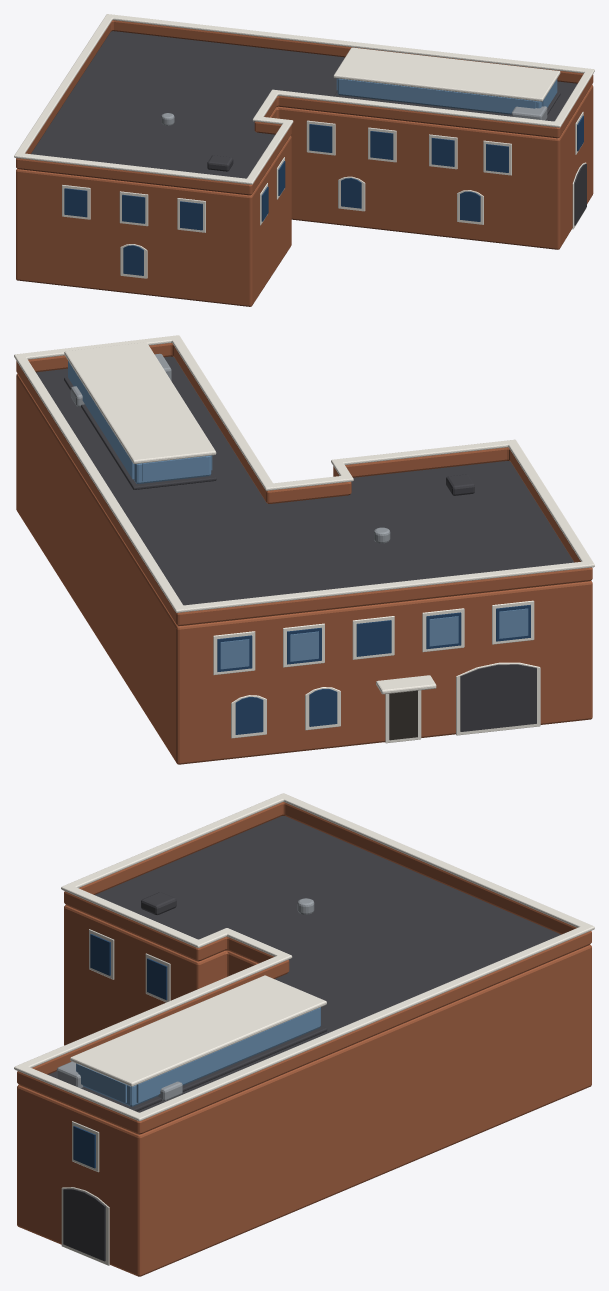
The model's file is 135-south-park.glb.
3 renders of one model, top to bottom at view 1: azimuth 30°, elevation 25°; view 2: azimuth 150°, elevation 25°; view 3: azimuth 270°, elevation 25°, orthographic. The views are drawn at different scales.
Visible parts, largest first — view 1: body, parapet, coping, monitor_lid, monitor_glow_ne, sw_up0_fill, sw_up1_fill, wg_up1_fill, wg_up0_fill, wg_up2_fill, sw_up2_fill, re_door_fill (+8 smaller); view 2: body, parapet, coping, monitor_lid, fr_freight_fill, fr_door_fill, monitor_glow_nw, fr_up2_fill, monitor_glow_sw, monitor_kerb, fr_gw0_fill, fr_gw1_fill (+10 smaller); view 3: body, parapet, coping, monitor_lid, monitor_glow_sw, re_door_fill, monitor_kerb, monitor_glow_se, re_up0_fill, bw_up1_fill, bw_up0_fill, monitor_body (+1 smaller).
Part boxes in pixels (x1,y1,x2,y2): body: [16, 31, 593, 306]; parapet: [16, 20, 593, 195]; coping: [14, 14, 594, 184]; monitor_lid: [333, 47, 560, 101]; monitor_glow_ne: [341, 79, 535, 113]; sw_up0_fill: [64, 188, 87, 217]; sw_up1_fill: [122, 194, 145, 223]; wg_up1_fill: [370, 131, 393, 159]; wg_up0_fill: [309, 124, 332, 152]; wg_up2_fill: [431, 138, 454, 166]; sw_up2_fill: [180, 201, 202, 230]; re_door_fill: [574, 164, 586, 225]; body: [16, 356, 592, 764]; parapet: [16, 343, 592, 625]; coping: [14, 335, 594, 612]; monitor_lid: [64, 342, 216, 463]; fr_freight_fill: [460, 664, 536, 731]; fr_door_fill: [389, 690, 417, 740]; monitor_glow_nw: [142, 456, 206, 481]; fr_up2_fill: [356, 620, 391, 656]; monitor_glow_sw: [68, 361, 134, 479]; monitor_kerb: [64, 377, 216, 489]; fr_gw0_fill: [235, 697, 263, 734]; fr_gw1_fill: [309, 689, 337, 726]; body: [17, 816, 591, 1276]; parapet: [17, 802, 591, 1134]; coping: [14, 793, 594, 1121]; monitor_lid: [70, 975, 326, 1086]; monitor_glow_sw: [136, 1008, 318, 1102]; re_door_fill: [63, 1189, 105, 1261]; monitor_kerb: [81, 1026, 327, 1111]; monitor_glow_se: [78, 1064, 126, 1102]; re_up0_fill: [73, 1126, 95, 1168]; bw_up1_fill: [147, 958, 167, 1000]; bw_up0_fill: [90, 934, 110, 975]; monitor_body: [76, 1007, 320, 1106].
Size of the model in its own units: 34.45 by 8.5 by 25.95.
